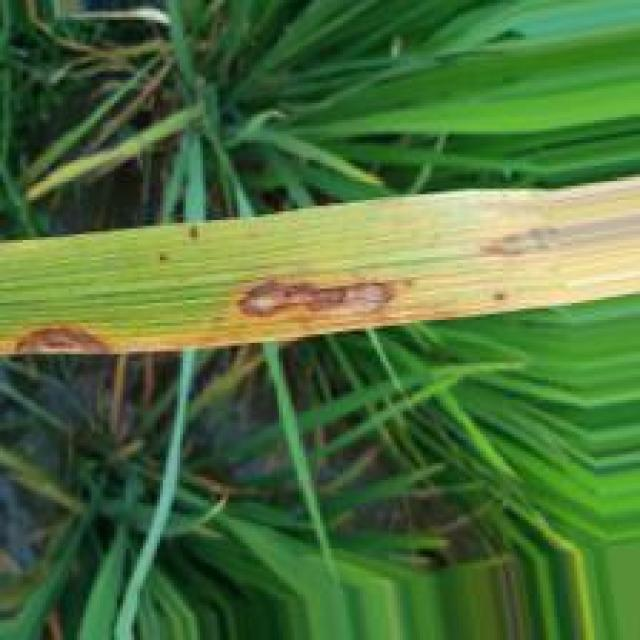Leaf_Blast: (222, 272, 401, 326), (471, 214, 640, 259), (7, 322, 115, 355)
